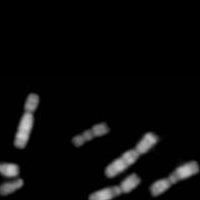chromosome: (104, 131, 157, 178), (151, 162, 199, 196), (87, 173, 140, 200), (13, 92, 38, 148), (73, 124, 111, 149), (0, 178, 24, 199), (0, 153, 18, 176)
